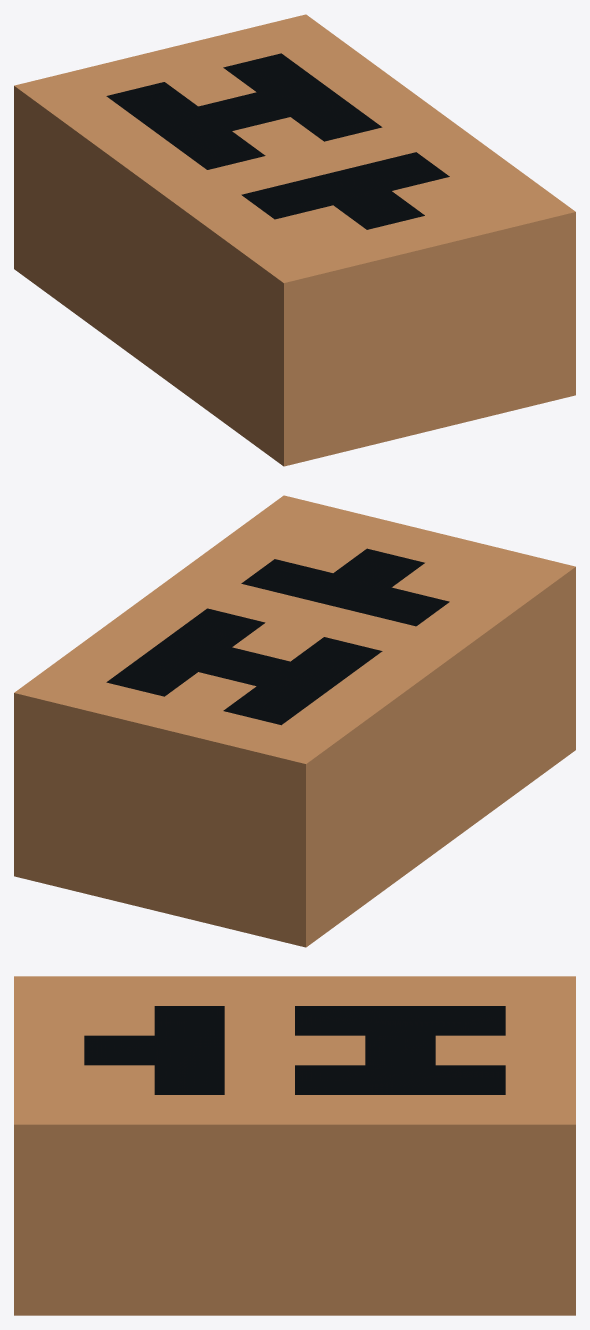
The model's file is Items-0.obj.
The picture shows the model from 3 angles, top to bottom: view 1: azimuth 30°, elevation 25°; view 2: azimuth 150°, elevation 25°; view 3: azimuth 270°, elevation 25°; orthographic projection. The views are drawn at different scales.
Bounding box in the file's own units: 0.5 × 0.3 × 0.8.
1 material, 1 textured.
